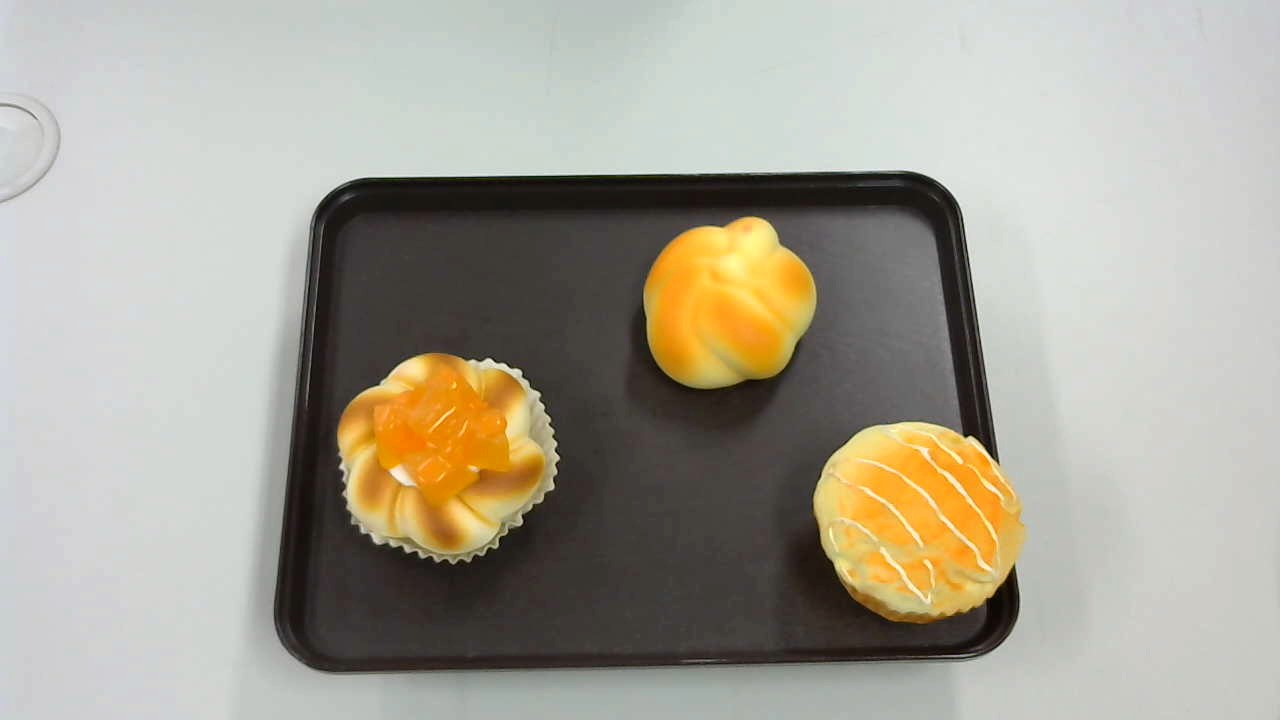croissant: (644, 215, 817, 388)
cupcake: (814, 419, 1030, 625)
mango tart: (335, 352, 561, 568)
